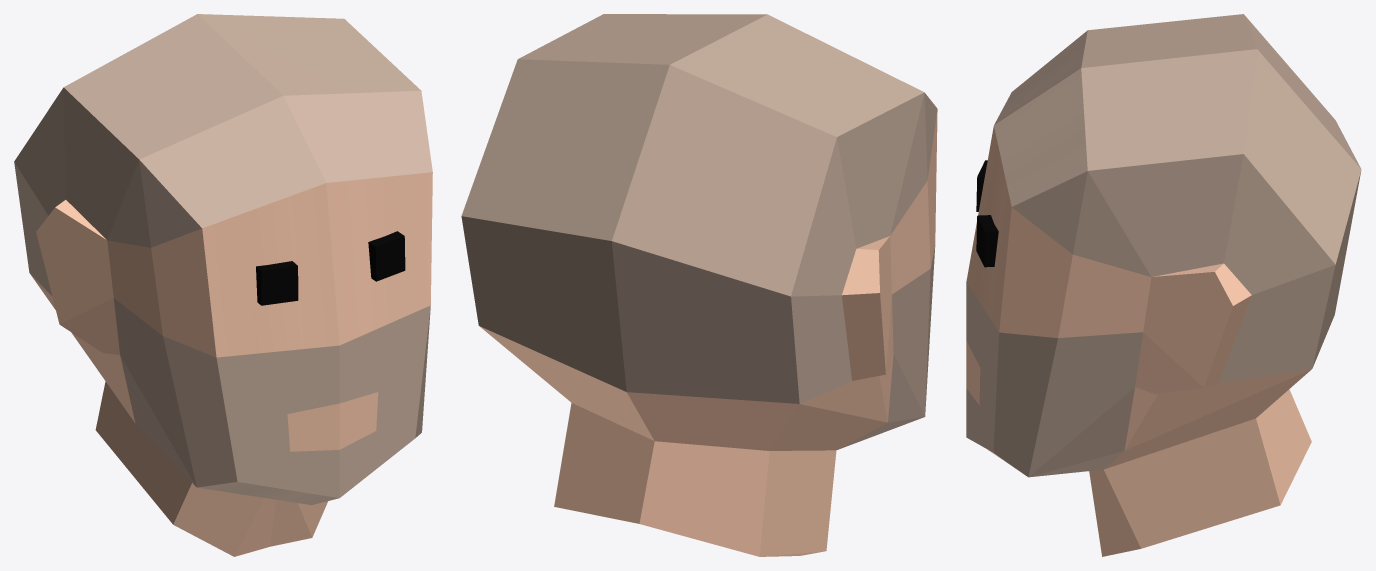
File: Chr_Head_Male_12_Static.fbx
3 views of the same model, side by side, from view 1: azimuth 30°, elevation 25°; view 2: azimuth 150°, elevation 25°; view 3: azimuth 270°, elevation 25° (orthographic). The views are drawn at different scales.
Visible parts, largest first — view 1: Chr_Head_Male_12_Static; view 2: Chr_Head_Male_12_Static; view 3: Chr_Head_Male_12_Static.
Part boxes in pixels (left/top/right/bottom): Chr_Head_Male_12_Static: left=14, top=14, right=432, bottom=556; Chr_Head_Male_12_Static: left=461, top=14, right=937, bottom=556; Chr_Head_Male_12_Static: left=966, top=14, right=1361, bottom=556.
Bounding box in the file's own units: 0.2661 × 0.3523 × 0.2574.
